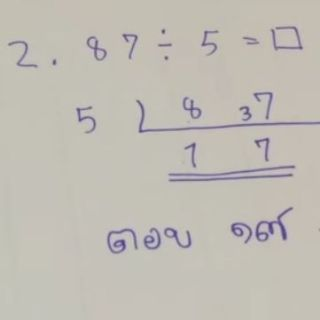.: (157, 24, 171, 39), (47, 55, 61, 69), (161, 51, 172, 62)
1: (184, 139, 199, 169)
2: (6, 37, 39, 70)
3: (237, 104, 253, 122)
5: (74, 104, 98, 135), (200, 27, 220, 57)
7: (252, 90, 275, 121), (120, 31, 139, 59), (253, 136, 272, 163)
8: (85, 33, 108, 62), (180, 94, 203, 121)
